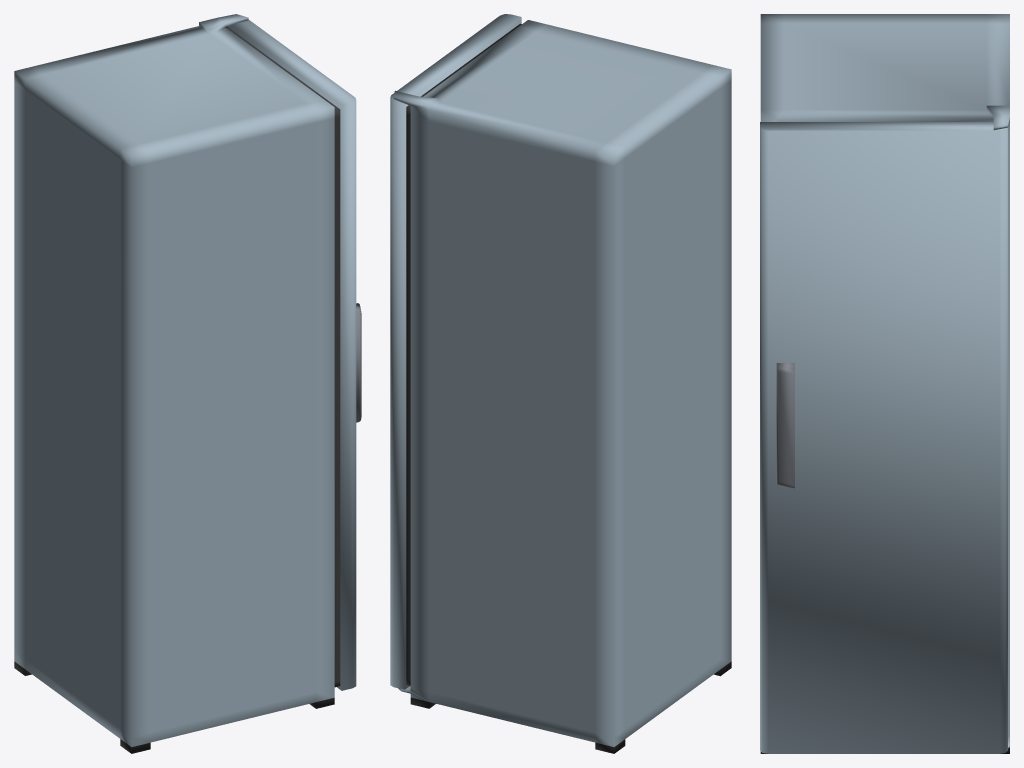
The model's file is Fridge.fbx.
3 views of the same model, side by side, from view 1: azimuth 30°, elevation 25°; view 2: azimuth 150°, elevation 25°; view 3: azimuth 270°, elevation 25° (orthographic). The views are drawn at different scales.
Visible parts, largest first — view 1: FridgeNoInterior; view 2: FridgeNoInterior; view 3: FridgeNoInterior.
Boxes of the visible parts, box(x1,y1,x2,y2) form: FridgeNoInterior: box(14, 14, 361, 753); FridgeNoInterior: box(390, 14, 731, 753); FridgeNoInterior: box(760, 14, 1009, 753).
Bounding box in the file's own units: 47.12 × 111 × 39.19.
